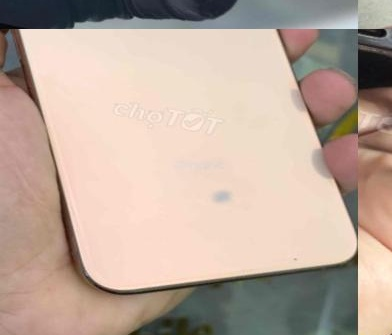scratch: (358, 29, 392, 61), (283, 242, 311, 273)
